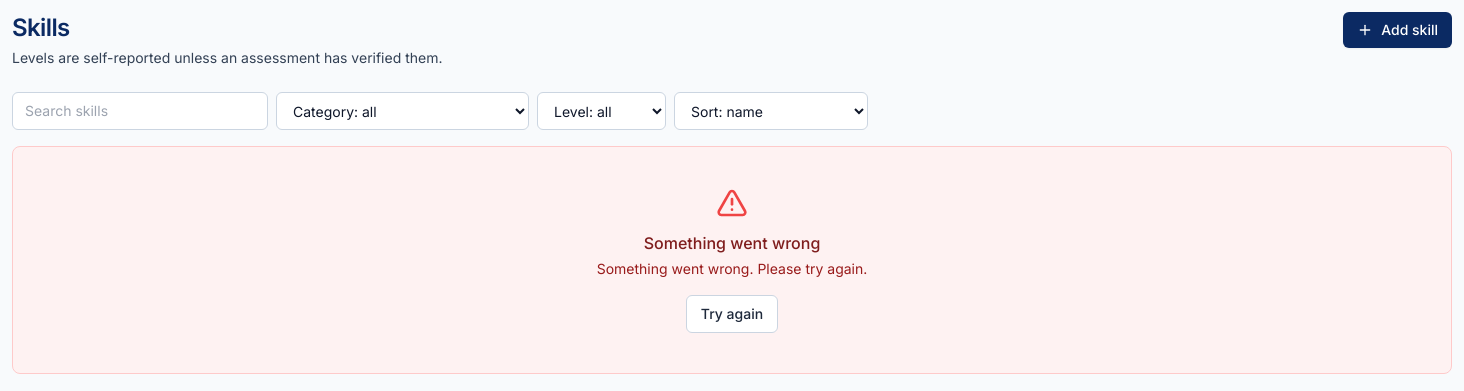
skills › shows an error with retry when the API fails
Expected: the message shows "Something went wrong", [644,233,820,253]
Click the button "Try again" at (732, 314), box [686,295,778,333]
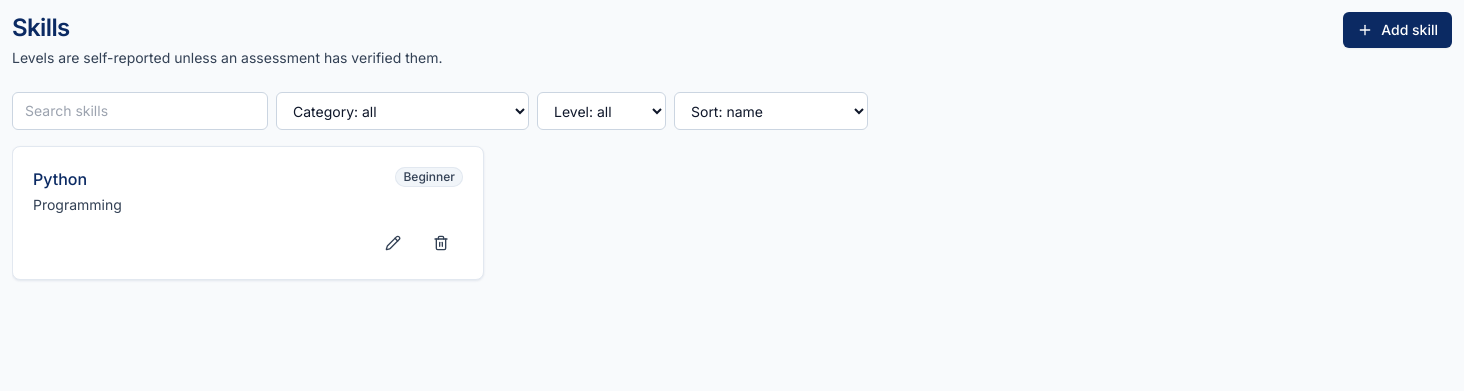
Result: the heading "Python" is shown at [33,167,87,191]
